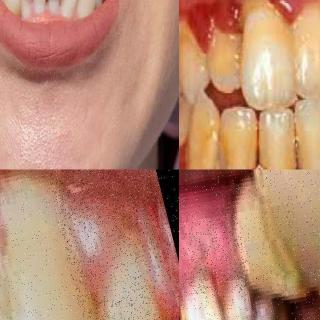Gum Swelling: (61, 191, 179, 320), (183, 222, 235, 286), (179, 0, 255, 40), (270, 0, 320, 28)
calculus: (186, 124, 230, 170), (202, 28, 240, 78), (179, 14, 207, 77), (222, 134, 258, 170), (252, 146, 292, 170), (295, 140, 320, 170)
maligned: (60, 0, 79, 18), (0, 0, 20, 16), (78, 0, 96, 16)
